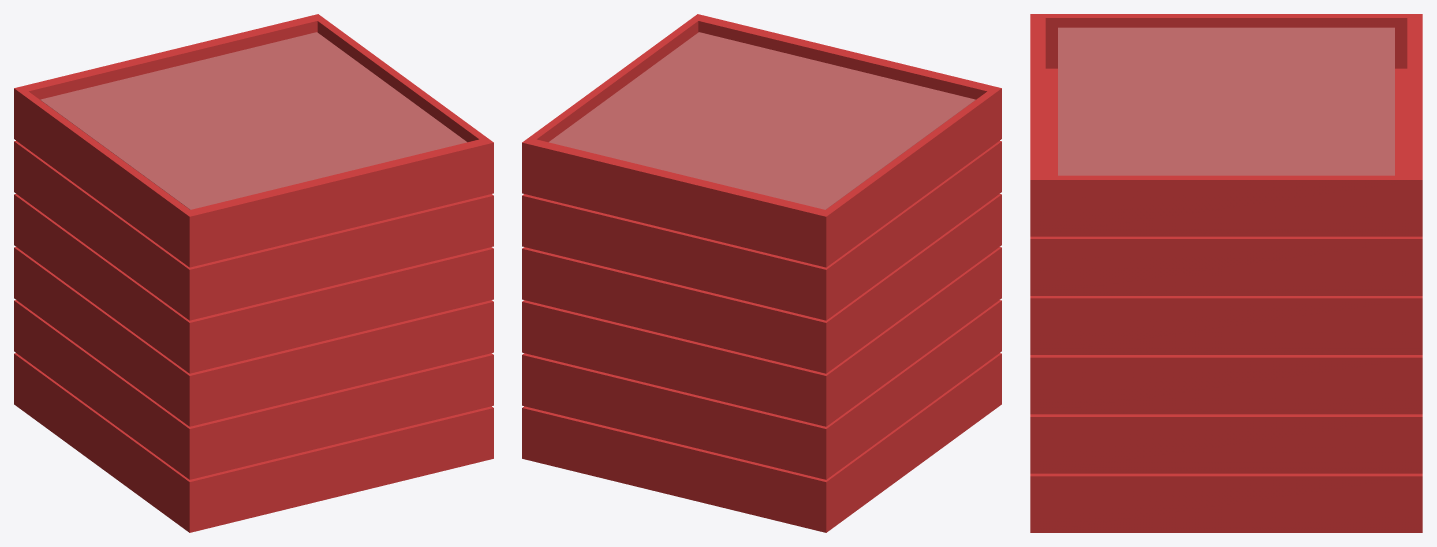
File: bateas_carne.glb
The picture shows the model from 3 angles, left to right: view 1: azimuth 30°, elevation 25°; view 2: azimuth 150°, elevation 25°; view 3: azimuth 270°, elevation 25°; orthographic projection. The views are drawn at different scales.
Visible parts, largest first — view 1: bateas_carne; view 2: bateas_carne; view 3: bateas_carne.
Boxes of the visible parts, left/top/right/bottom form: bateas_carne: left=14, top=14, right=493, bottom=532; bateas_carne: left=522, top=14, right=1001, bottom=532; bateas_carne: left=1030, top=14, right=1422, bottom=532.
Bounding box in the file's own units: 1 × 0.9929 × 1.
